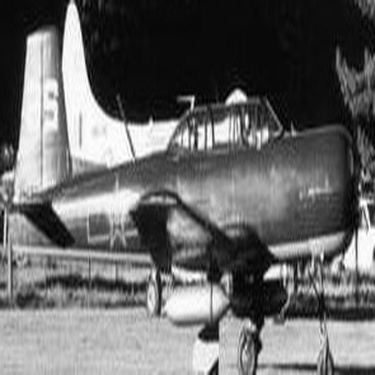airplane: (9, 18, 369, 368), (31, 1, 316, 241)
